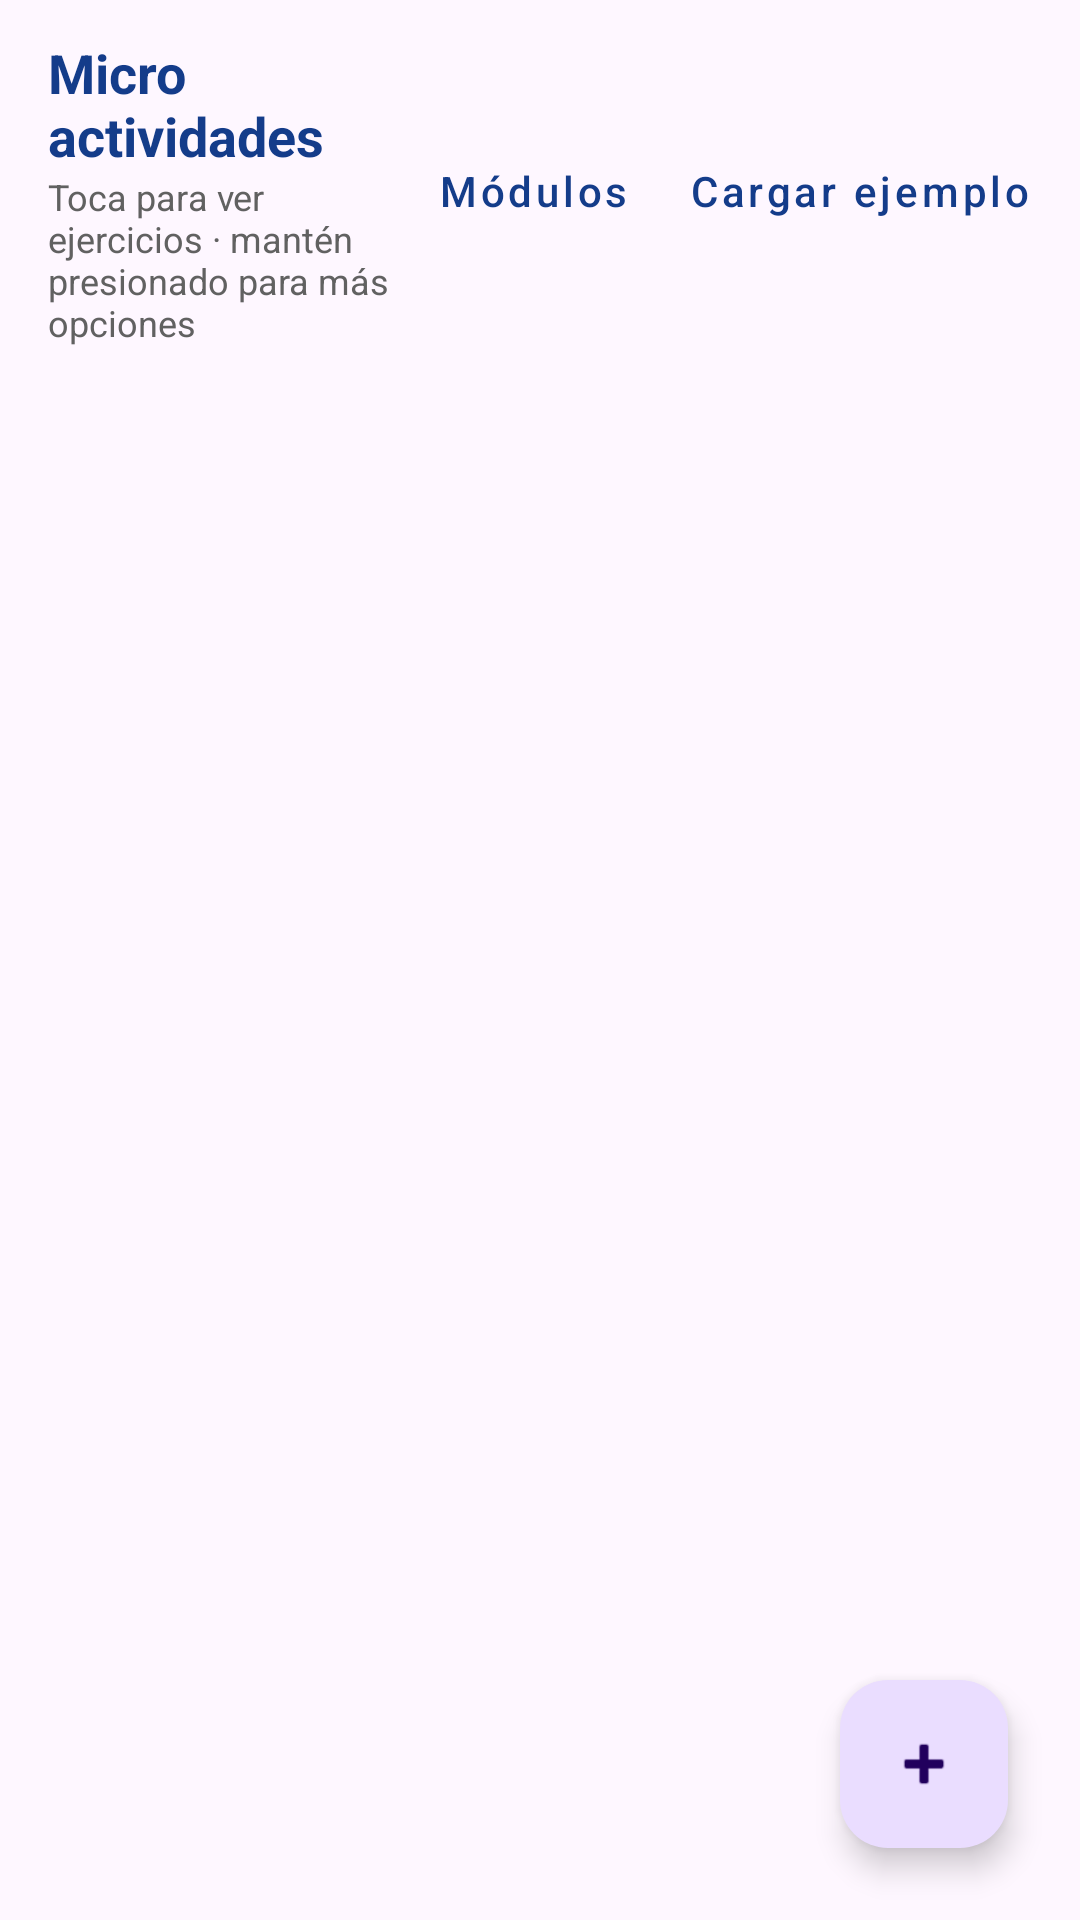

Point at icon controls on the screen. Image size 1080*1920, points as (x,y).
Nueva micro actividad: (924,1764)
